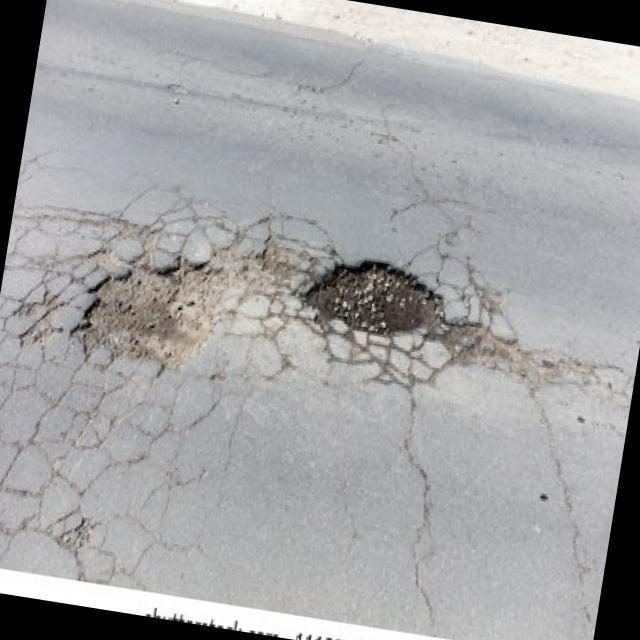Pothole: (307, 261, 524, 371), (81, 262, 223, 369)
